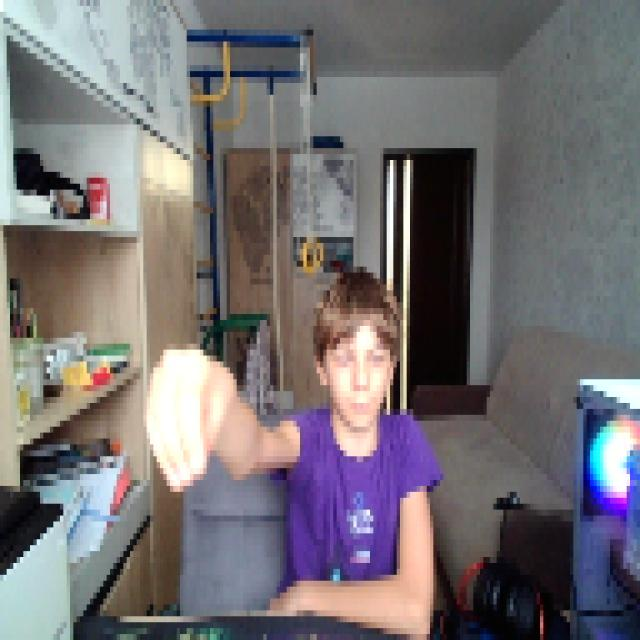left_click: (137, 338, 230, 486)
